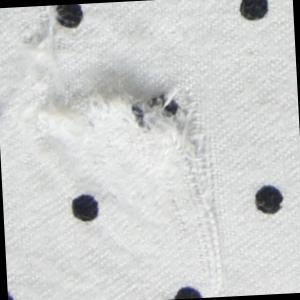Damage: (41, 66, 234, 294), (17, 5, 71, 61)
